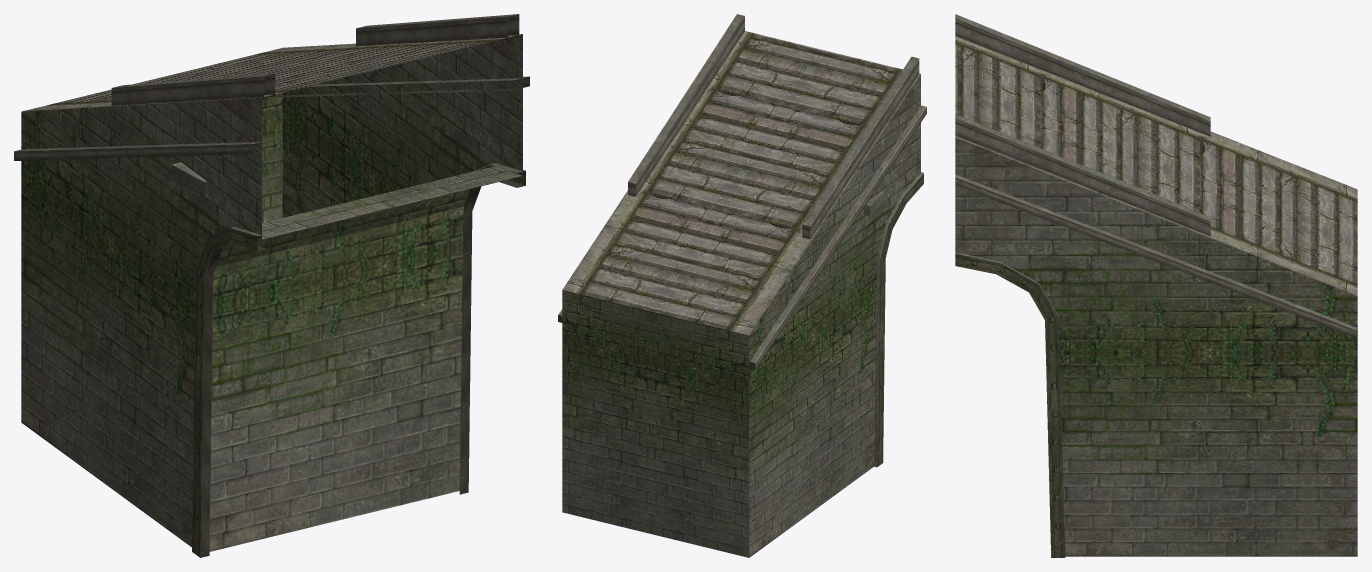
Rendered from qiao_dw_40_03.FBX.
The picture shows the model from 3 angles, left to right: view 1: azimuth 30°, elevation 25°; view 2: azimuth 150°, elevation 25°; view 3: azimuth 270°, elevation 25°; orthographic projection. The views are drawn at different scales.
Parts seen in each view (by area): view 1: qiao_dw_40_03; view 2: qiao_dw_40_03; view 3: qiao_dw_40_03.
Part boxes in pixels (bbox=[...]): qiao_dw_40_03: bbox=[14, 14, 529, 557]; qiao_dw_40_03: bbox=[558, 14, 926, 557]; qiao_dw_40_03: bbox=[955, 14, 1357, 557].
Size of what is drawn, in the model's own units: 1042 by 1875 by 1565.
